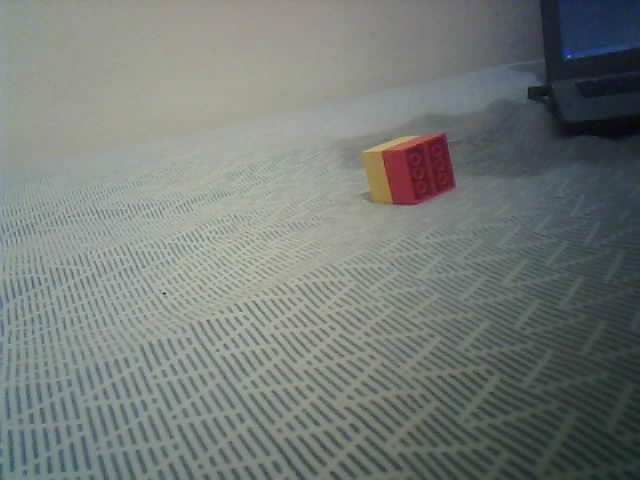lego: (360, 132, 456, 206)
